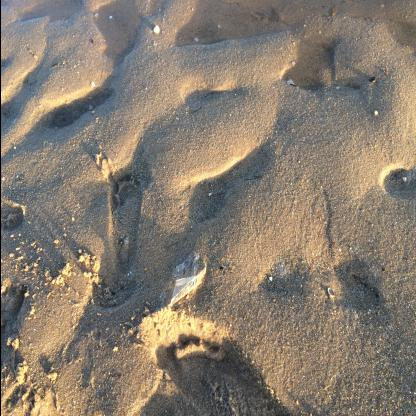plastik: (169, 264, 207, 306)
